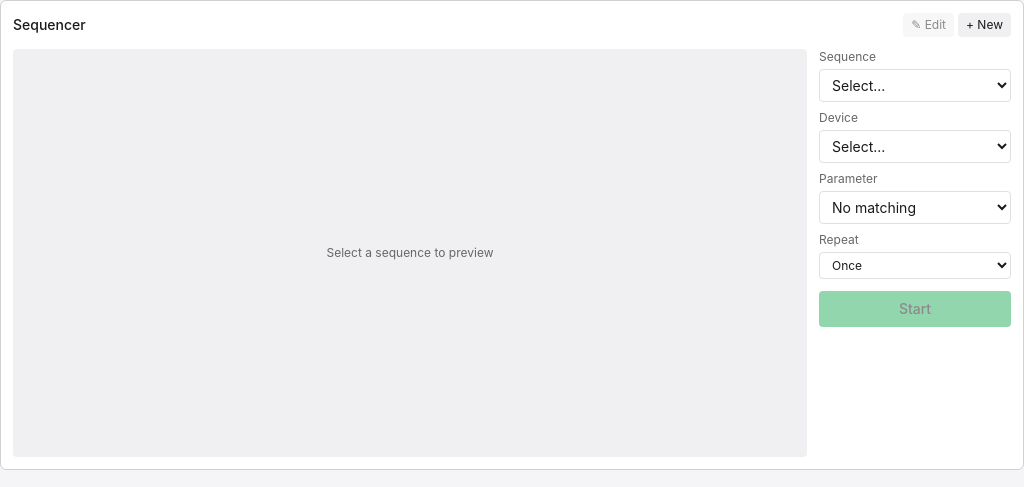
Test: SequencePanel Integration › Playback Controls › should show Abort button during playback
Expected: the heading "Sequencer" is shown, top-left (13, 15), bottom-right (86, 35)
Select "Voltage Ramp (V)" in the 1st dropdown. click: (915, 86)
box: top-left (819, 69), bottom-right (1011, 102)
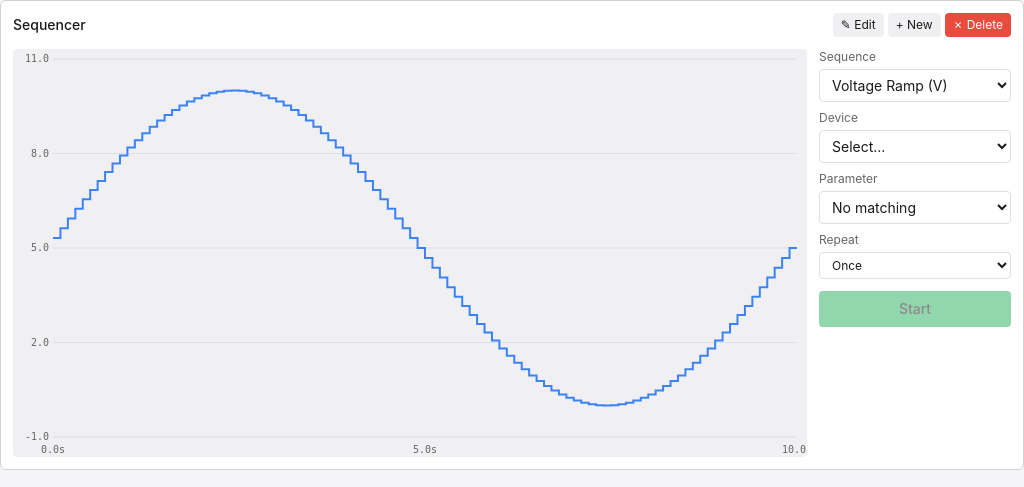
Select "Rigol DP832" in the dropdown below "Device". click: (915, 146)
box: top-left (819, 130), bottom-right (1011, 163)
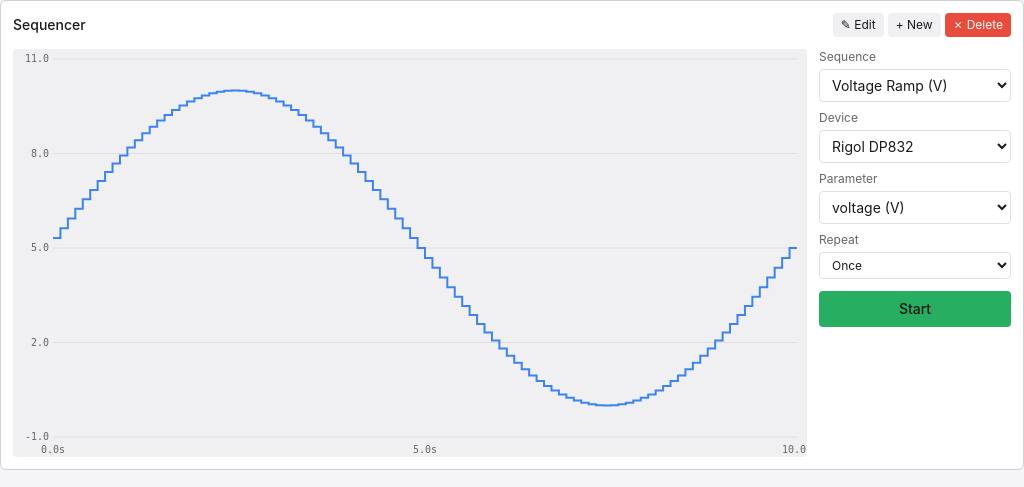
Now the button "Start" is enabled
Click the button "Start". click: (915, 309)
box: top-left (819, 291), bottom-right (1011, 327)
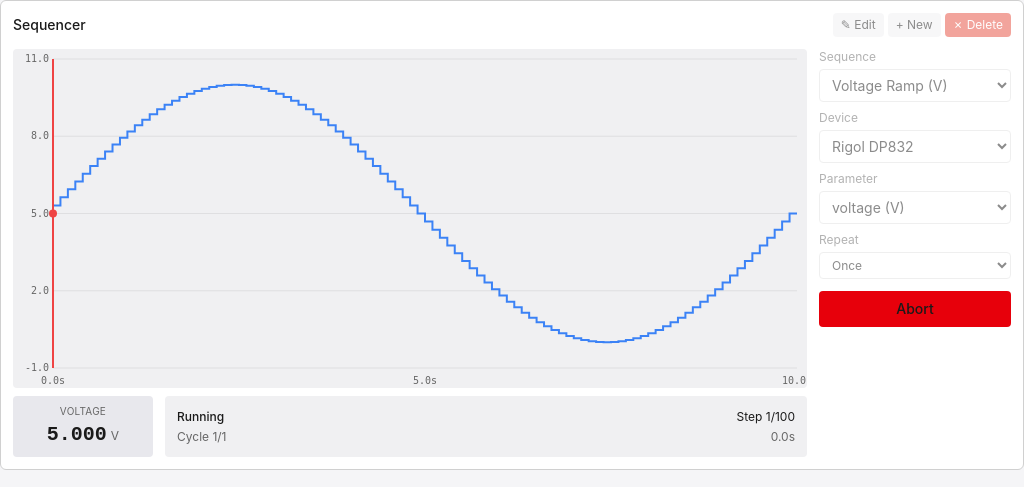
Now the button "Abort" is shown, box top-left (819, 291), bottom-right (1011, 327)
